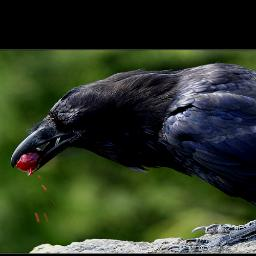Crow: (8, 62, 256, 254)
